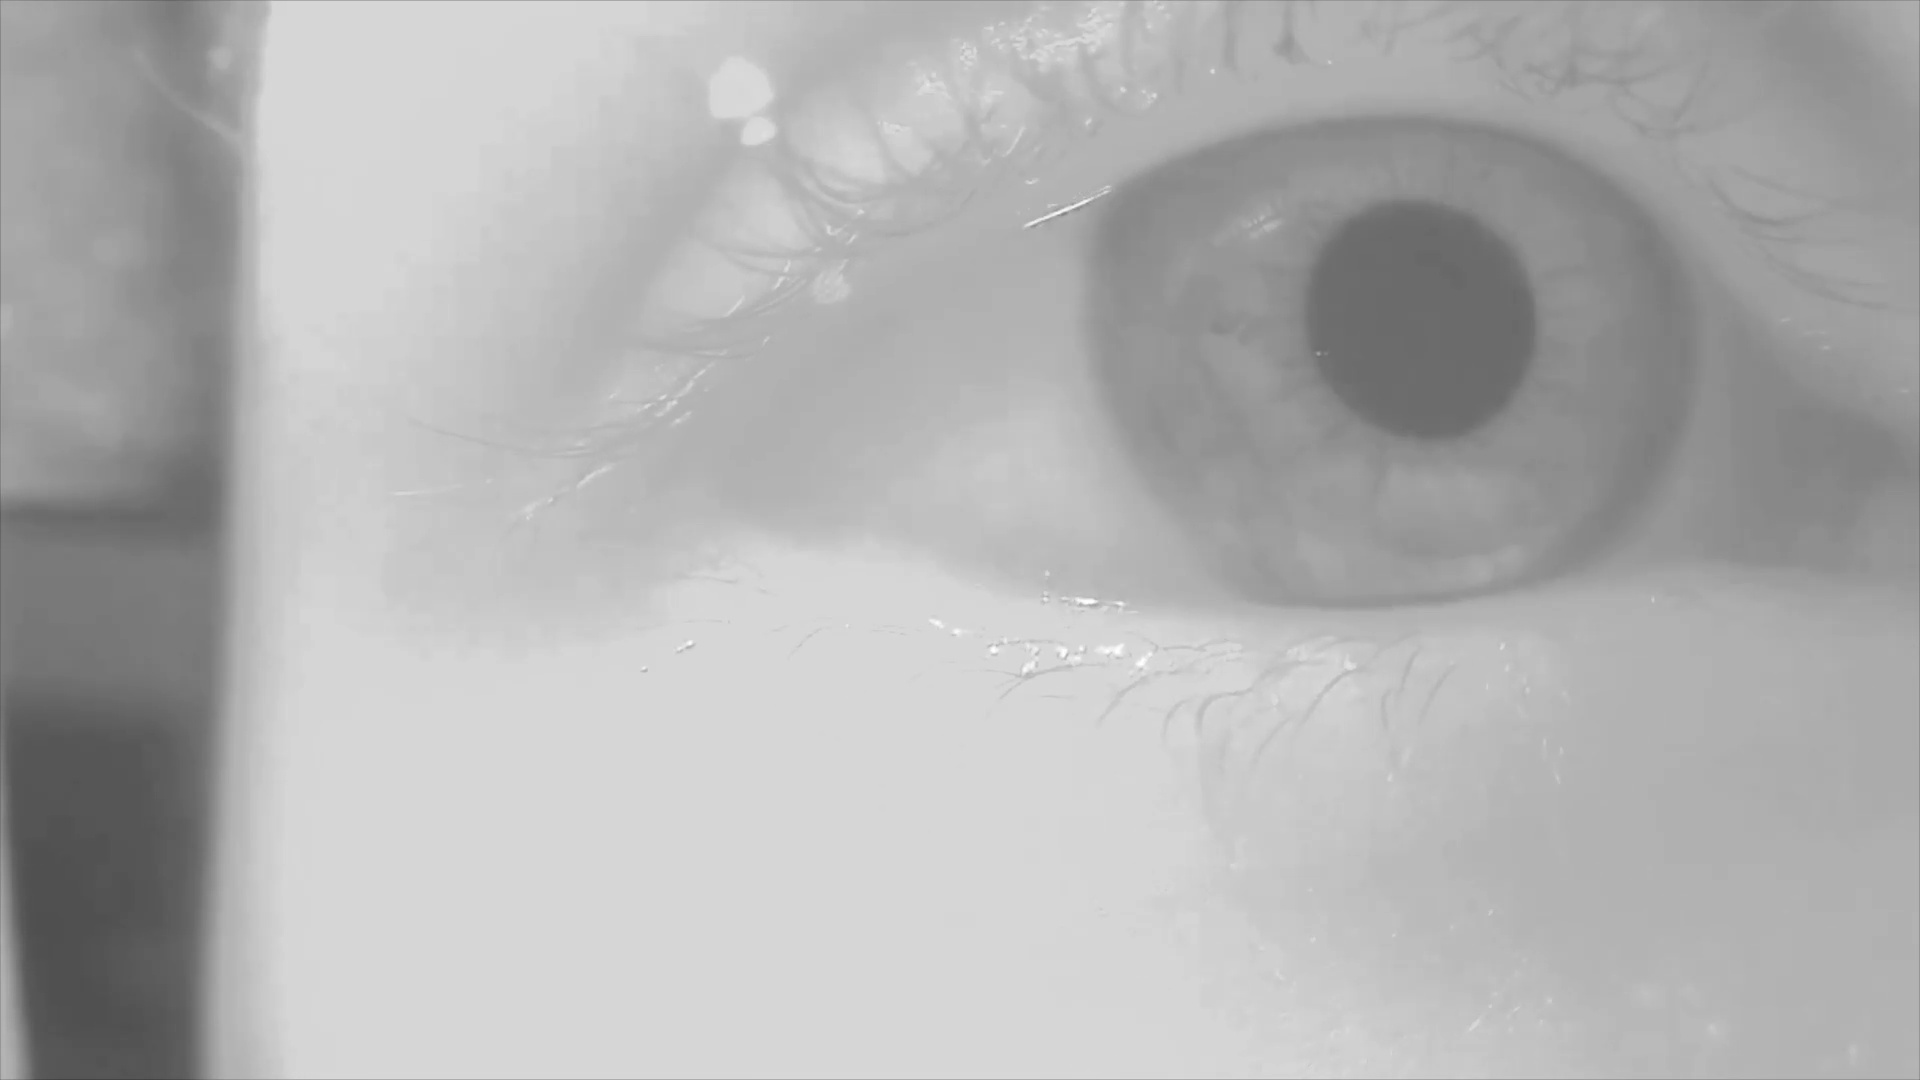pupil: (1309, 198, 1540, 438)
